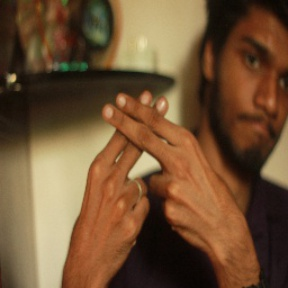F: (84, 78, 207, 194)
